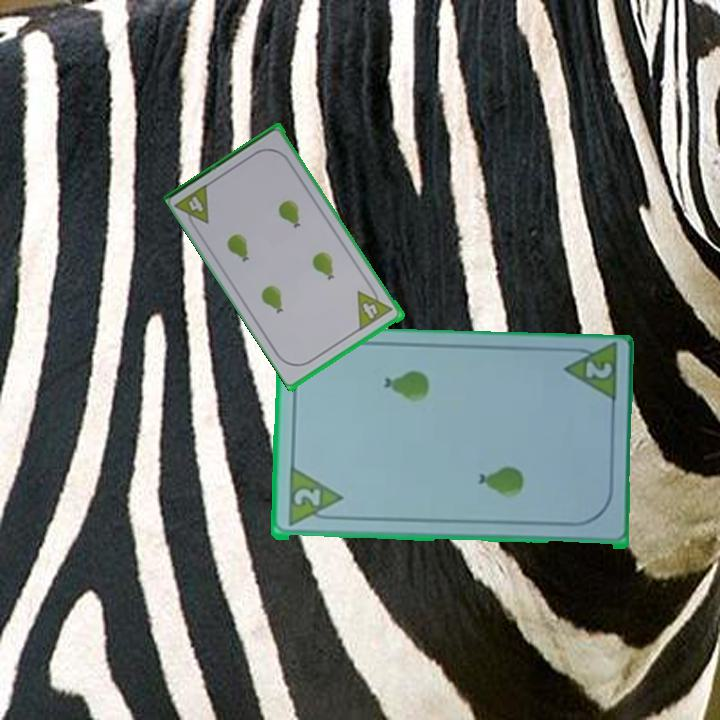2p: (559, 343, 620, 408), (290, 486, 323, 511)
4p: (354, 290, 384, 331), (185, 192, 207, 215)
